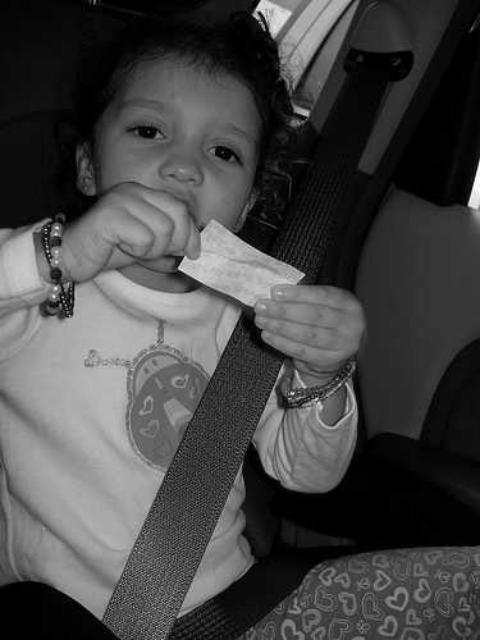SafeDriving: (194, 129, 250, 172), (116, 108, 176, 147)
Seatbelt: (97, 48, 402, 640)
